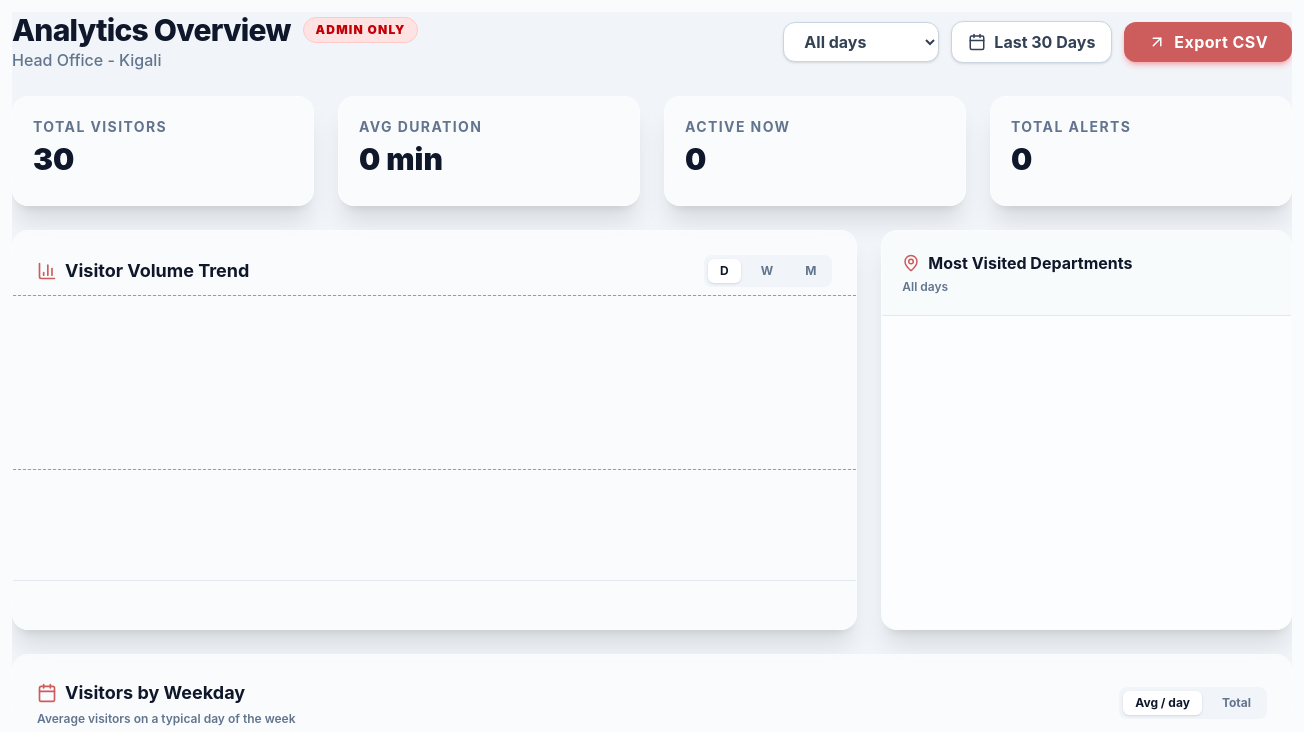
Scenario: AnalyticsDashboard › reloads analytics when switching date range
Step 1. Click the button "Last 30 Days" → (1032, 42), box [951,21,1112,63]
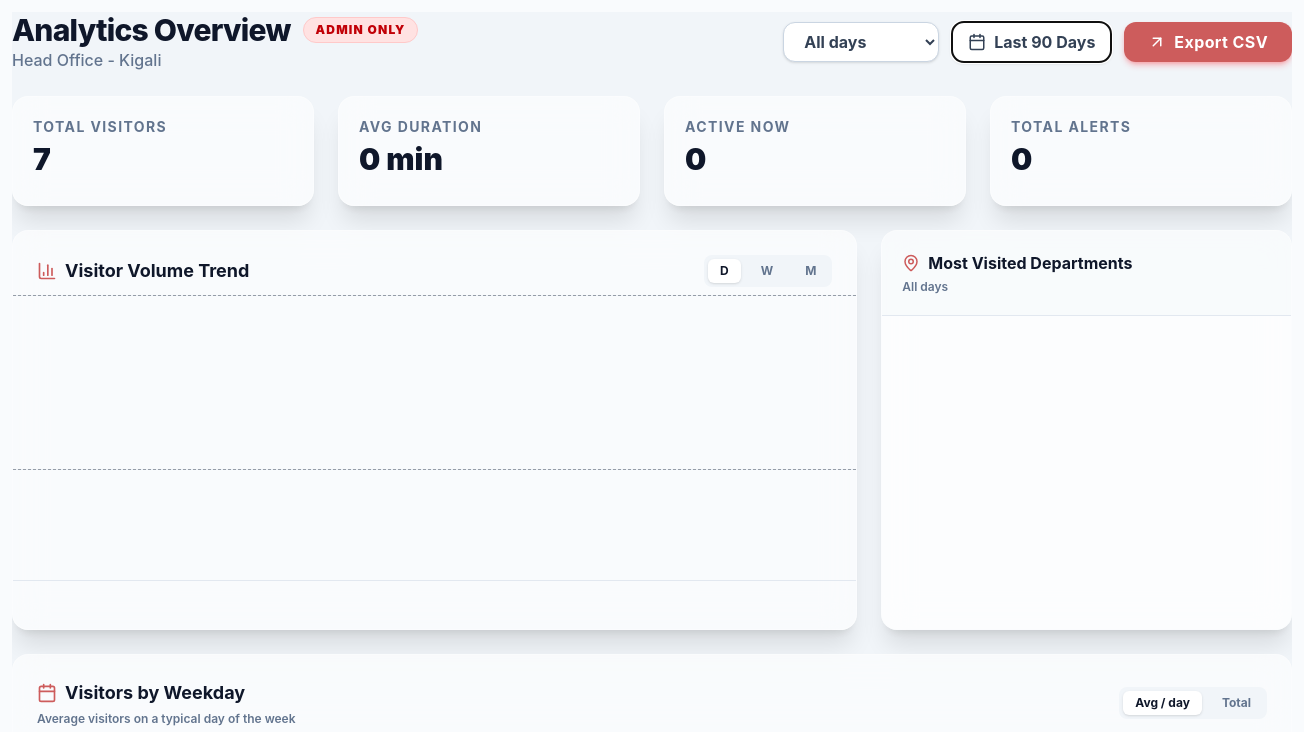
Expected: the heading "7" is shown, [33,141,51,177]
